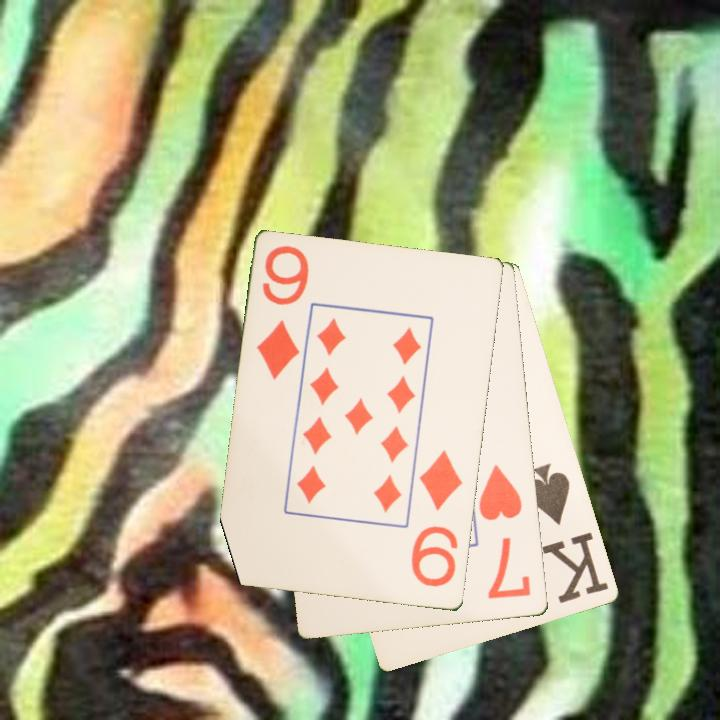7h: (475, 461, 534, 603)
9d: (407, 447, 466, 591), (253, 242, 313, 383)
Ks: (523, 459, 612, 606)
